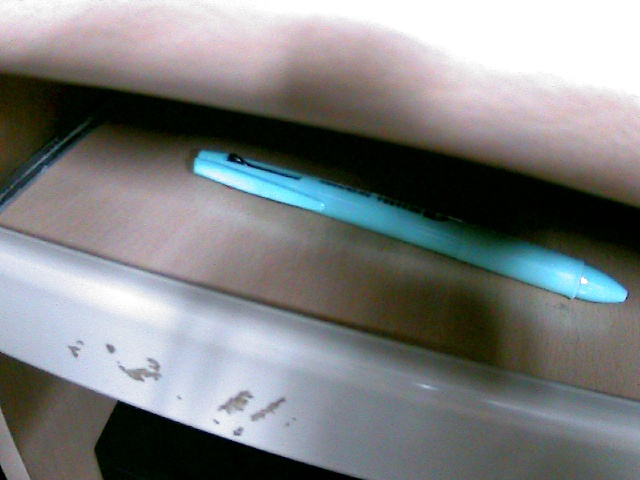pen: (204, 149, 633, 313)
